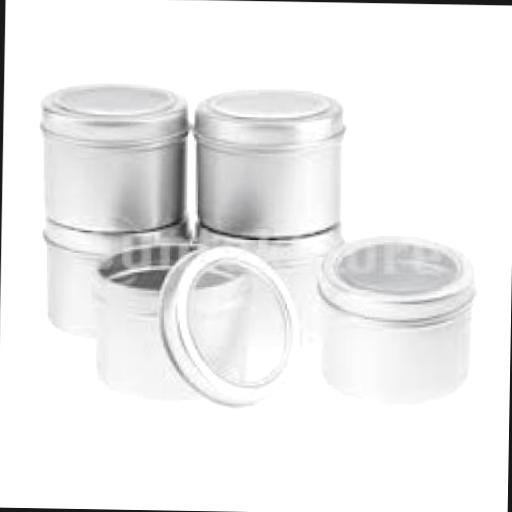metal: (309, 230, 472, 400), (88, 236, 246, 401), (154, 242, 298, 408), (34, 78, 190, 231), (187, 88, 342, 236), (42, 215, 187, 340), (190, 220, 339, 338)
